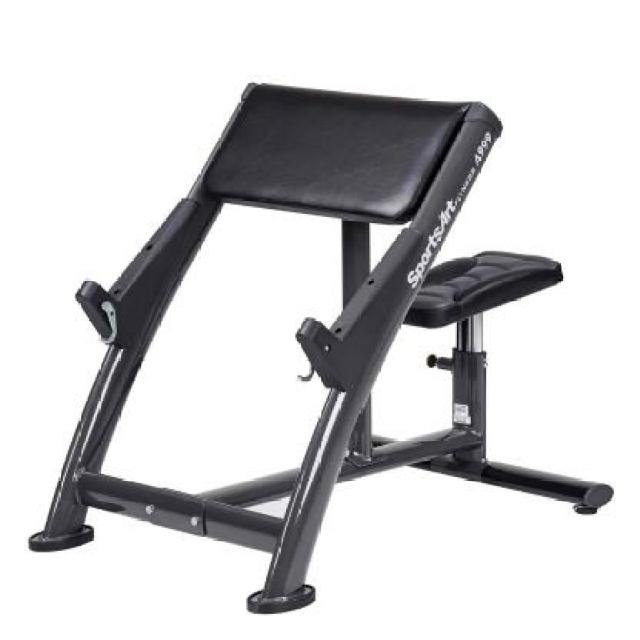arm curl machine: (28, 81, 614, 614)
